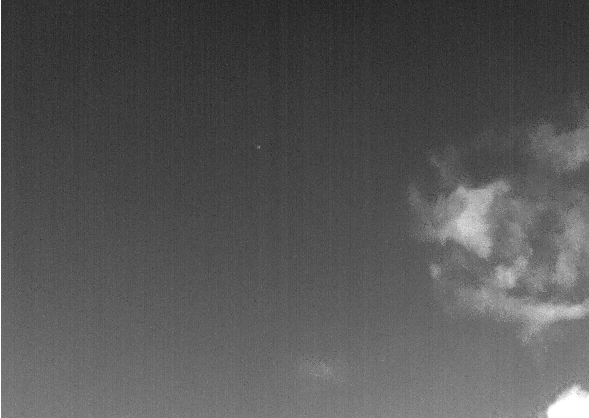dim target: (255, 144, 262, 151)
